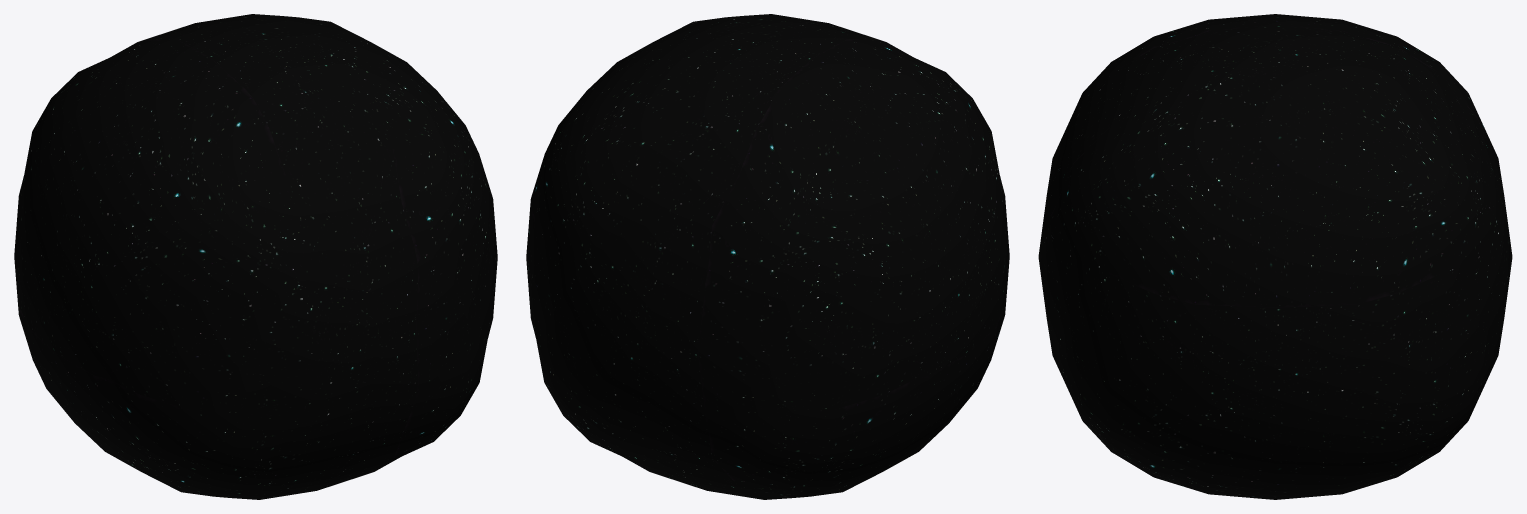
The model's file is UnleashedSpace.glb.
3 renders of one model, left to right at view 1: azimuth 30°, elevation 25°; view 2: azimuth 150°, elevation 25°; view 3: azimuth 270°, elevation 25°, orthographic.
Visible parts, largest first — view 1: wmap_space; view 2: wmap_space; view 3: wmap_space.
Part boxes in pixels (x1=…): wmap_space: x1=14, y1=14, x2=497, y2=499; wmap_space: x1=526, y1=14, x2=1009, y2=499; wmap_space: x1=1038, y1=14, x2=1512, y2=499.
Bounding box in the file's own units: 1001 × 1001 × 1001.
1 material, 1 textured.
